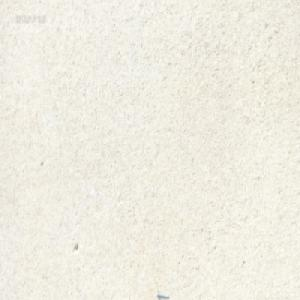Nail: (156, 289, 168, 297)
